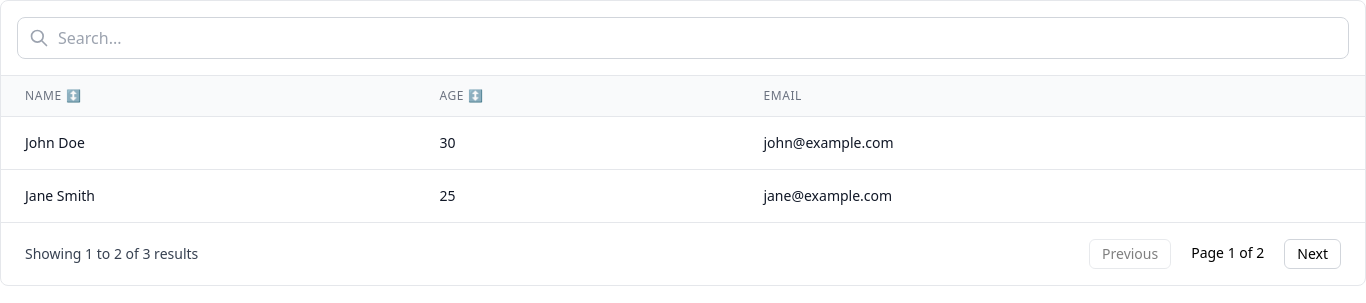
Test: DataTable › navigates pages correctly
Click the button "Next" at [1313, 254], box [1284,239,1341,269]
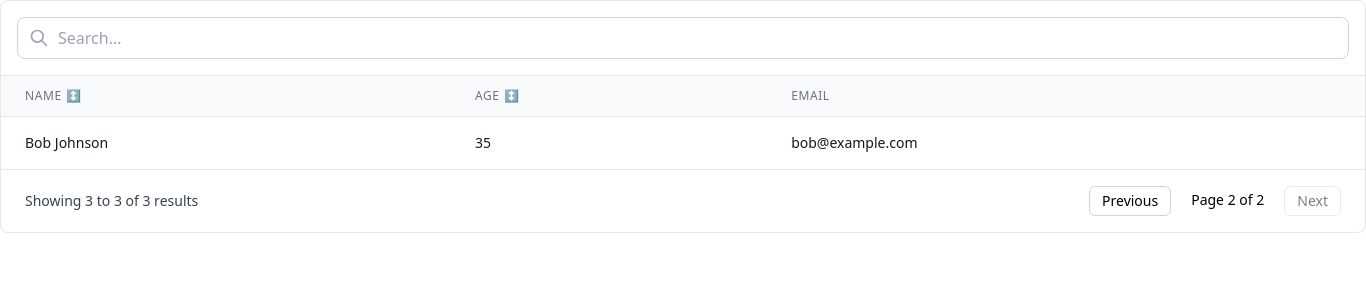
Now the text "Page 2 of 2" is shown, box [1191,190,1264,209]
